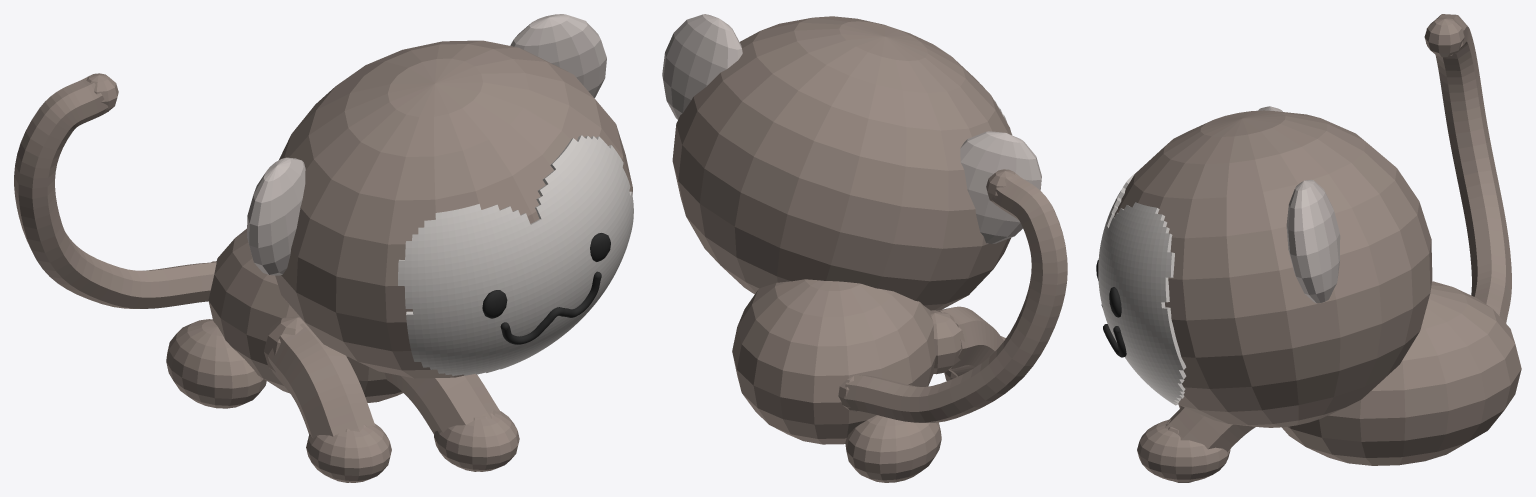
Rendered from MonkeyPhoto.fbx.
3 renders of one model, left to right at view 1: azimuth 30°, elevation 25°; view 2: azimuth 150°, elevation 25°; view 3: azimuth 270°, elevation 25°, orthographic. The views are drawn at different scales.
Parts seen in each view (by area): view 1: Fur, Face, Ear, Mouth, Eyes; view 2: Fur, Ear; view 3: Fur, Face, Ear.
Boxes of the visible parts, left/top/right/bottom form: Fur: left=14, top=40, right=632, bottom=482; Face: left=398, top=135, right=633, bottom=375; Ear: left=247, top=14, right=606, bottom=275; Mouth: left=500, top=271, right=601, bottom=344; Eyes: left=482, top=233, right=610, bottom=318; Fur: left=672, top=16, right=1067, bottom=482; Ear: left=662, top=14, right=1041, bottom=243; Fur: left=1114, top=14, right=1521, bottom=482; Face: left=1098, top=173, right=1186, bottom=405; Ear: left=1258, top=106, right=1340, bottom=303.
Size of the model in its own units: 1.71 by 1.2 by 1.27.
